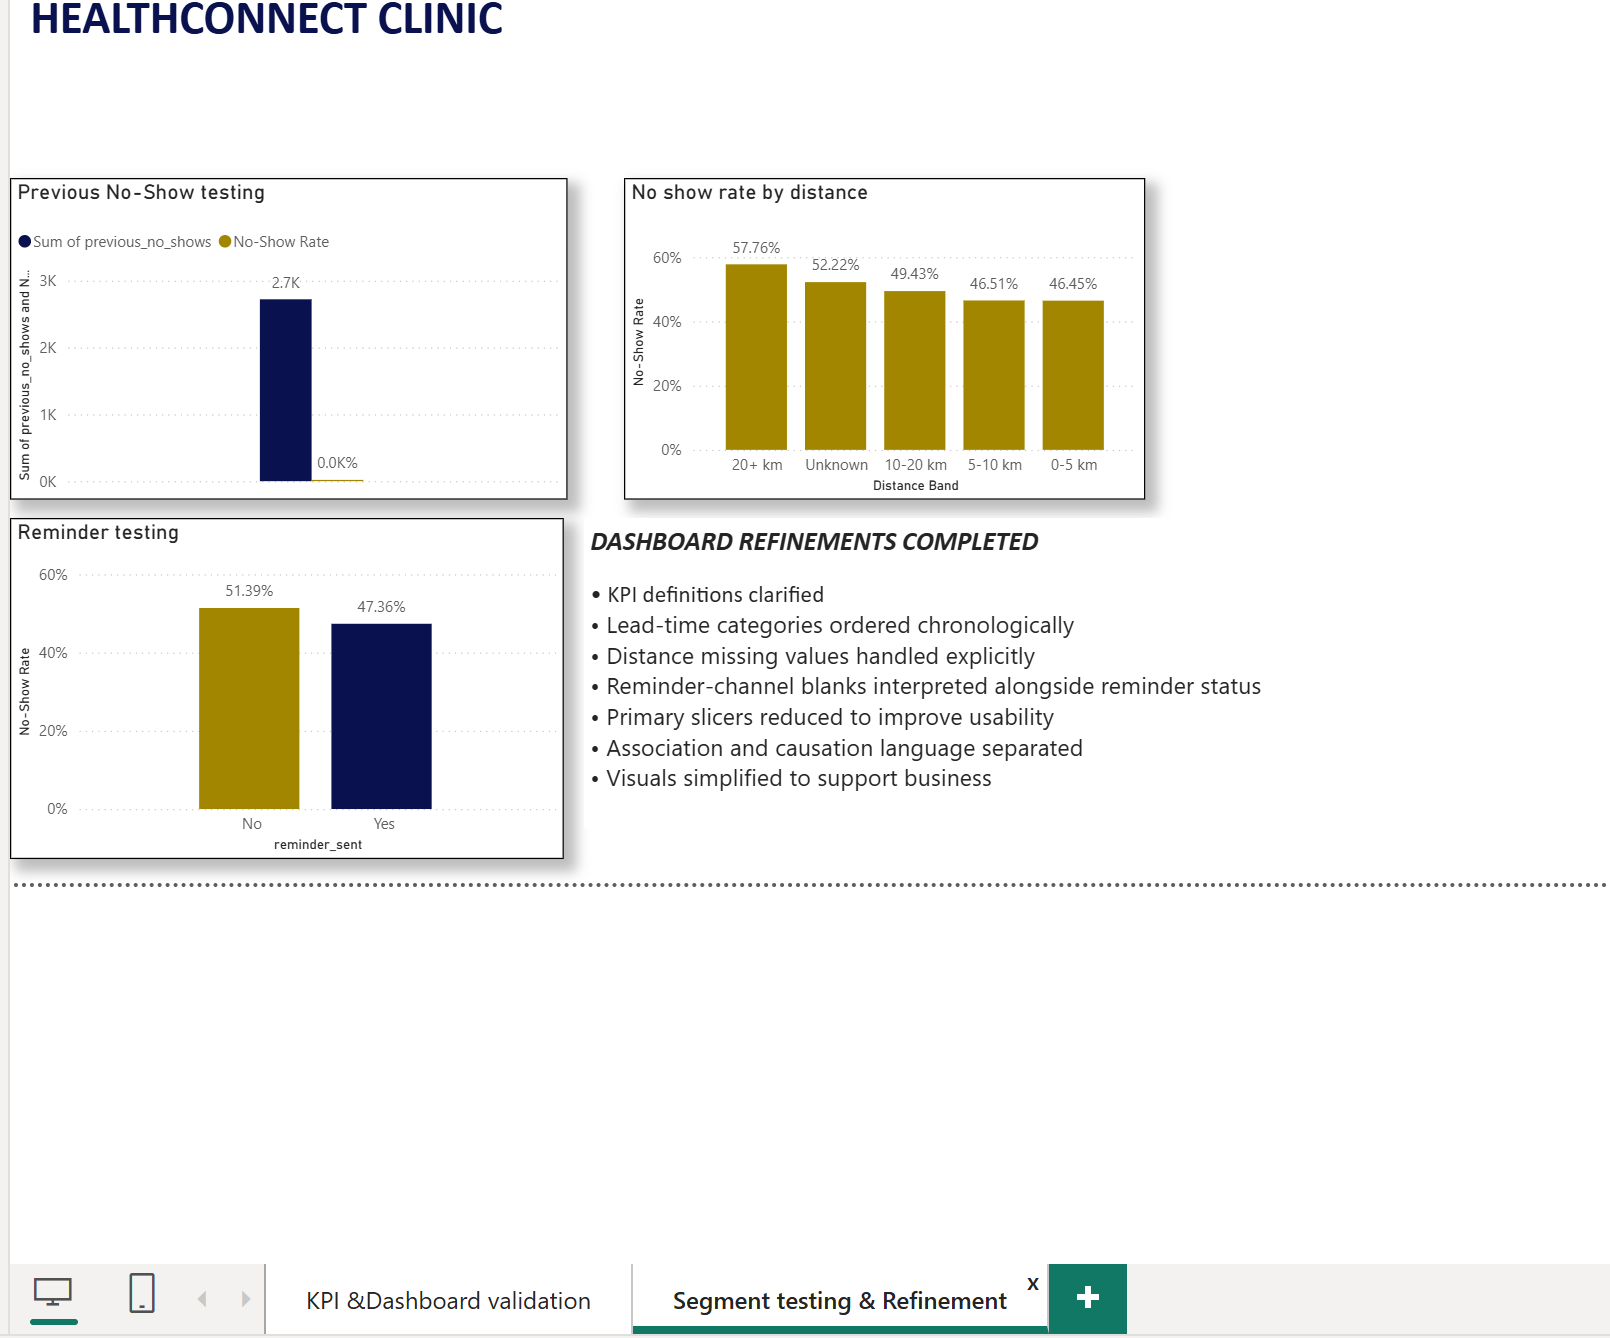

What the dashboard file says about the page in this screenshot:
{"tool":"powerbi","page":{"name":"Segment testing & Refinement","canvas":[1280,720],"ordinal":1},"visuals":[{"type":"textbox","box":[10.7,0,875.8,88.8],"z":0},{"type":"clusteredColumnChart","title":"Previous No-Show testing","fields":{"Y":["Sum(HC Appointments.previous_no_shows)","HC Appointments.No-Show Rate"]},"box":[0,156.2,445.6,257.2],"z":1},{"type":"clusteredColumnChart","title":"Reminder testing","fields":{"Category":["HC Appointments.reminder_sent"],"Y":["HC Appointments.No-Show Rate"]},"box":[0,428.7,442.5,272.5],"z":2},{"type":"clusteredColumnChart","title":"No show rate by distance ","fields":{"Category":["HC Appointments.Distance Band"],"Y":["HC Appointments.No-Show Rate"]},"box":[490,156.2,416.5,257.2],"z":3},{"type":"textbox","box":[459.3,428.7,808.4,248],"z":4}]}

Visuals, with their boxes on the page's 1280x720 design canvas (x1, y1, x2, y2). These are canvas units, not pixel positions in the 1610x1338 screenshot, which may show the page scaled, cropped or inside an application window:
textbox: <box>11,0,886,89</box>
"Previous No-Show testing" clusteredColumnChart: <box>0,156,446,413</box>
"Reminder testing" clusteredColumnChart: <box>0,429,442,701</box>
"No show rate by distance " clusteredColumnChart: <box>490,156,906,413</box>
textbox: <box>459,429,1268,677</box>
